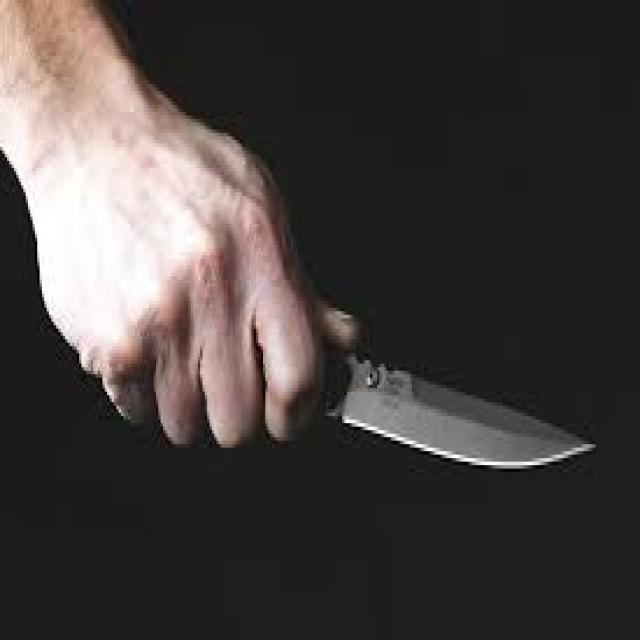knives: (264, 237, 611, 541)
